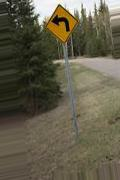left: (45, 3, 80, 45)
